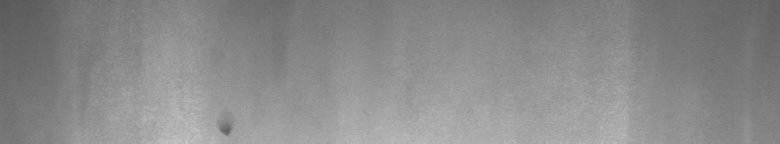fi: (216, 123, 236, 136)
